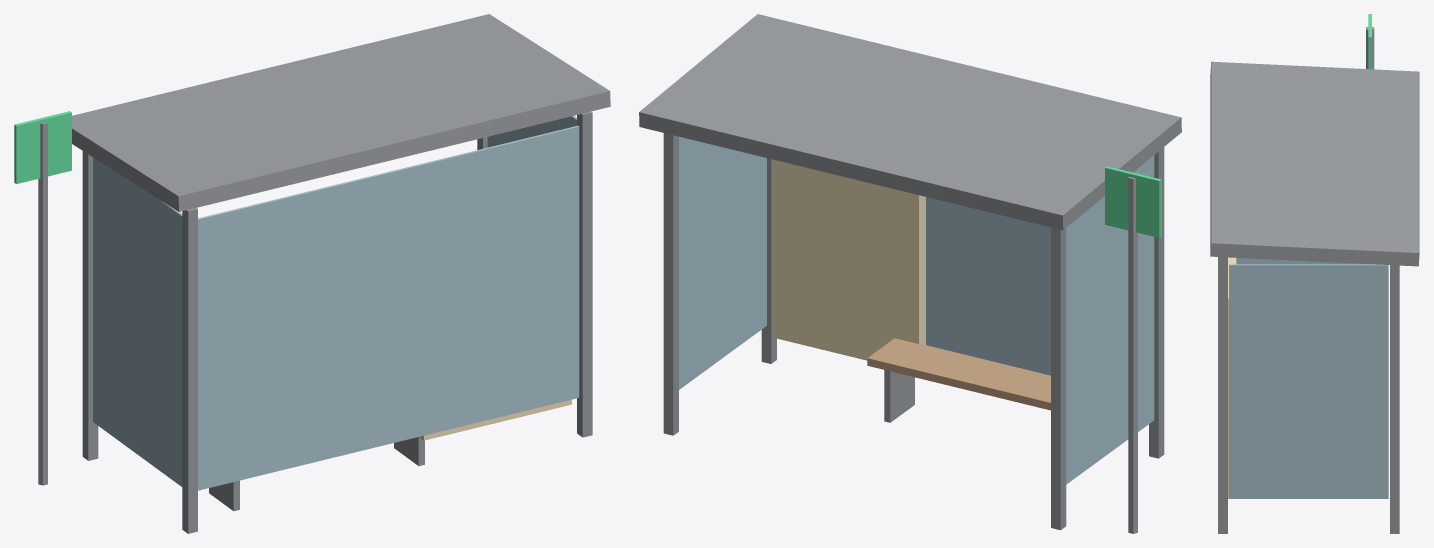
The model's file is bus_stop.glb.
3 views of the same model, side by side, from view 1: azimuth 30°, elevation 25°; view 2: azimuth 150°, elevation 25°; view 3: azimuth 270°, elevation 25° (orthographic). The views are drawn at different scales.
Visible parts, largest first — view 1: body; view 2: body; view 3: body.
Boxes of the visible parts, x1,y1,x2,y2 form: body: (14, 14, 610, 533); body: (639, 14, 1181, 533); body: (1210, 14, 1419, 533).
Bounding box in the file's own units: 4.08 × 2.83 × 1.7.
